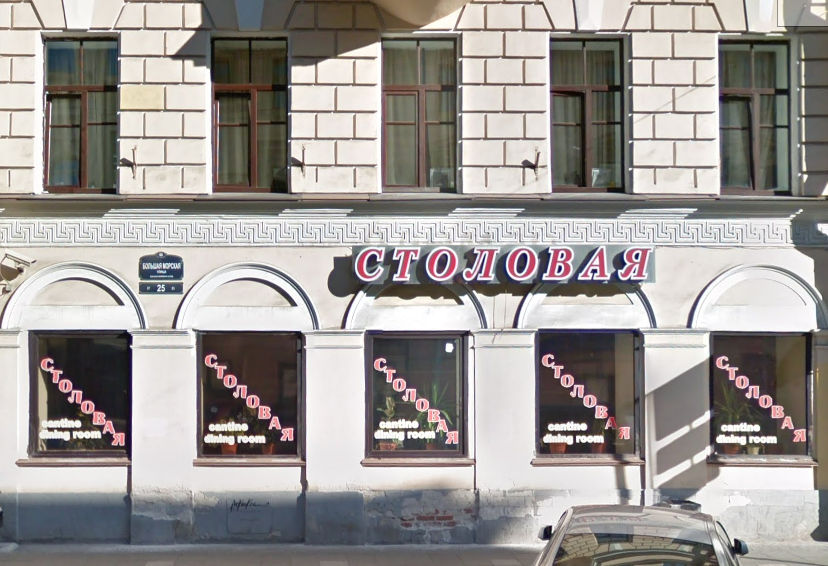signboard: (346, 239, 656, 291)
window: (27, 329, 133, 460), (708, 334, 810, 462), (197, 332, 300, 458), (536, 334, 640, 454), (368, 329, 465, 457), (555, 37, 633, 195), (214, 35, 289, 194), (41, 40, 120, 189), (721, 38, 794, 197), (382, 34, 453, 190)
